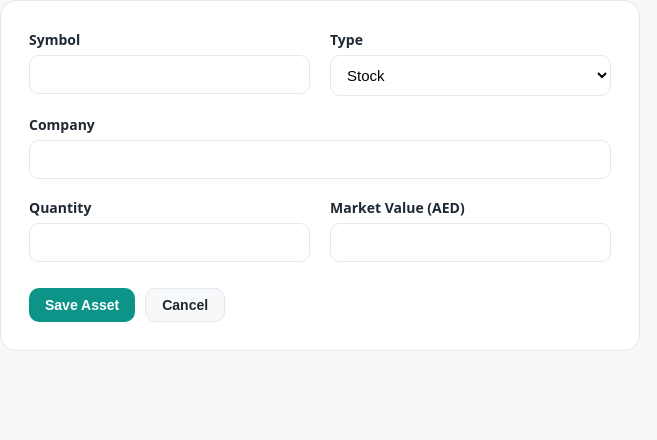
Test: a decimal quantity is not accepted
This screenshot has width=657, height=440.
Type "2.5" into the number field labelled "Quantity" at x=170, y=242, box [29,223,310,262]
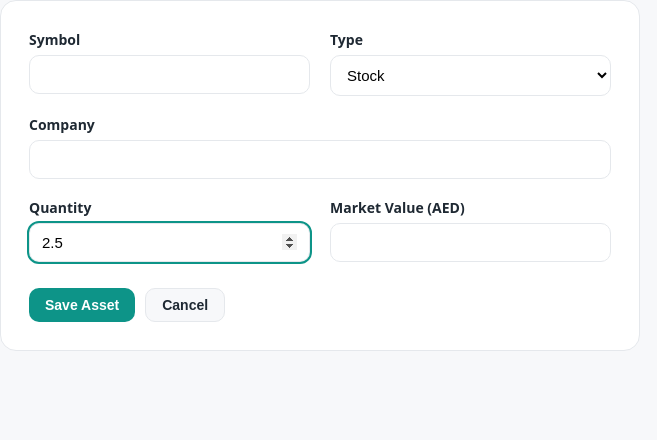
Click the button "Save Asset" at x=82, y=305, box [29,288,135,322]
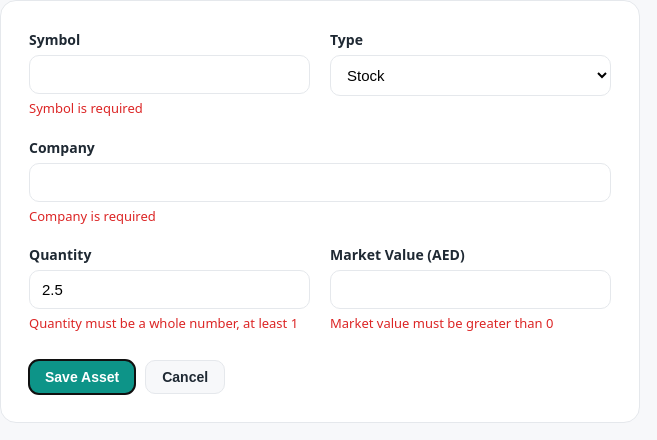
Check: the text "Quantity must be a whole number, at least 1" is shown, box [29,314,310,334]
